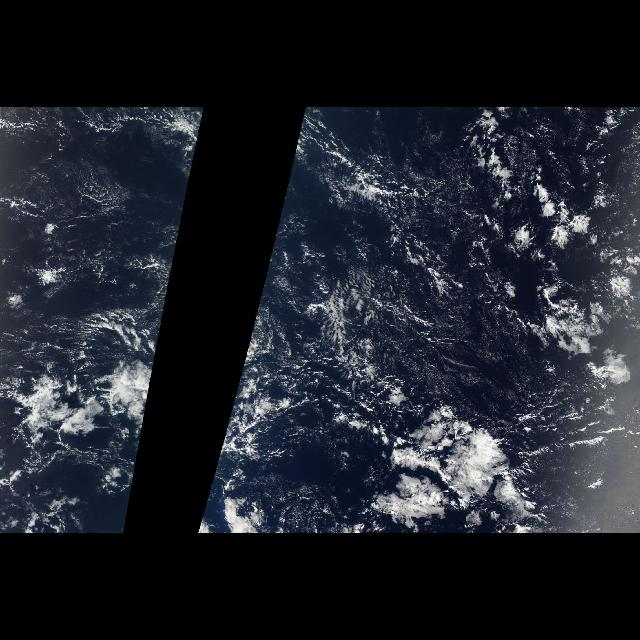Fish: (212, 303, 492, 481), (56, 303, 166, 481)
Flower: (497, 167, 637, 303)
Gravel: (228, 109, 640, 473)
Sugar: (18, 116, 178, 224)
